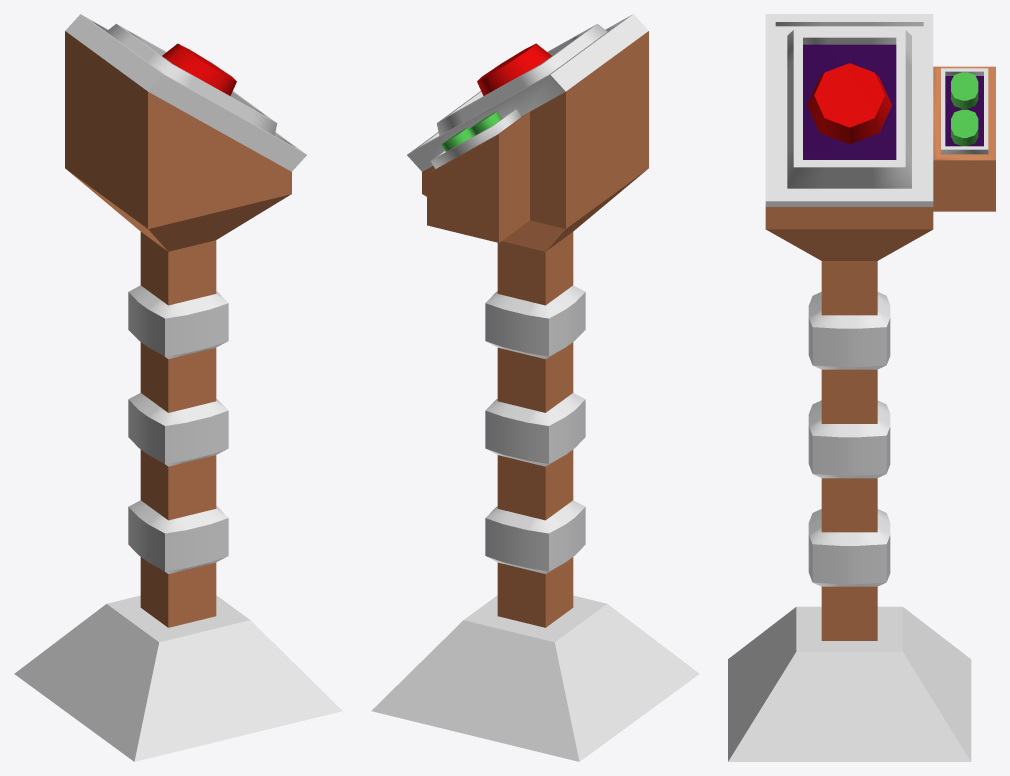
File: Panel_AssetsHarbor.fbx
3 views of the same model, side by side, from view 1: azimuth 30°, elevation 25°; view 2: azimuth 150°, elevation 25°; view 3: azimuth 270°, elevation 25° (orthographic).
Visible parts, largest first — view 1: PanelHarbor; view 2: PanelHarbor; view 3: PanelHarbor.
Part boxes in pixels (x1,y1,x2,y2): PanelHarbor: [14, 14, 342, 761]; PanelHarbor: [371, 14, 699, 761]; PanelHarbor: [728, 14, 995, 761].
Bounding box in the file's own units: 18.27 × 55.46 × 20.13.
